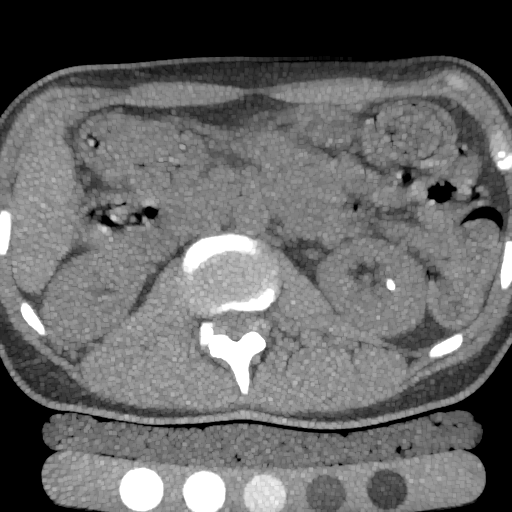Lesion: (385, 276, 398, 294)
